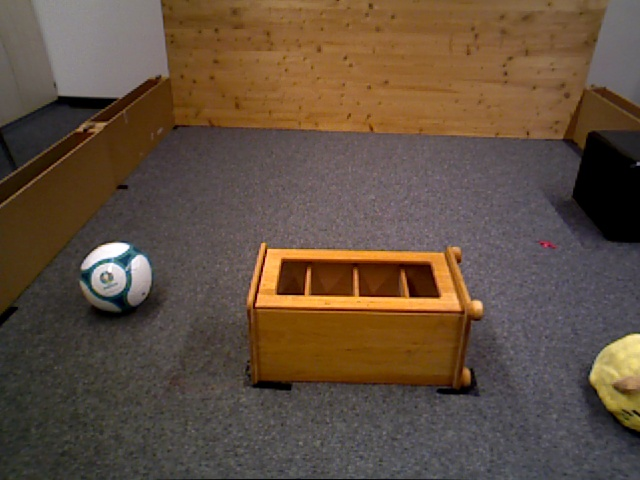grasp: (588, 330, 639, 431)
kick: (77, 241, 154, 318)
push: (586, 132, 639, 241)
